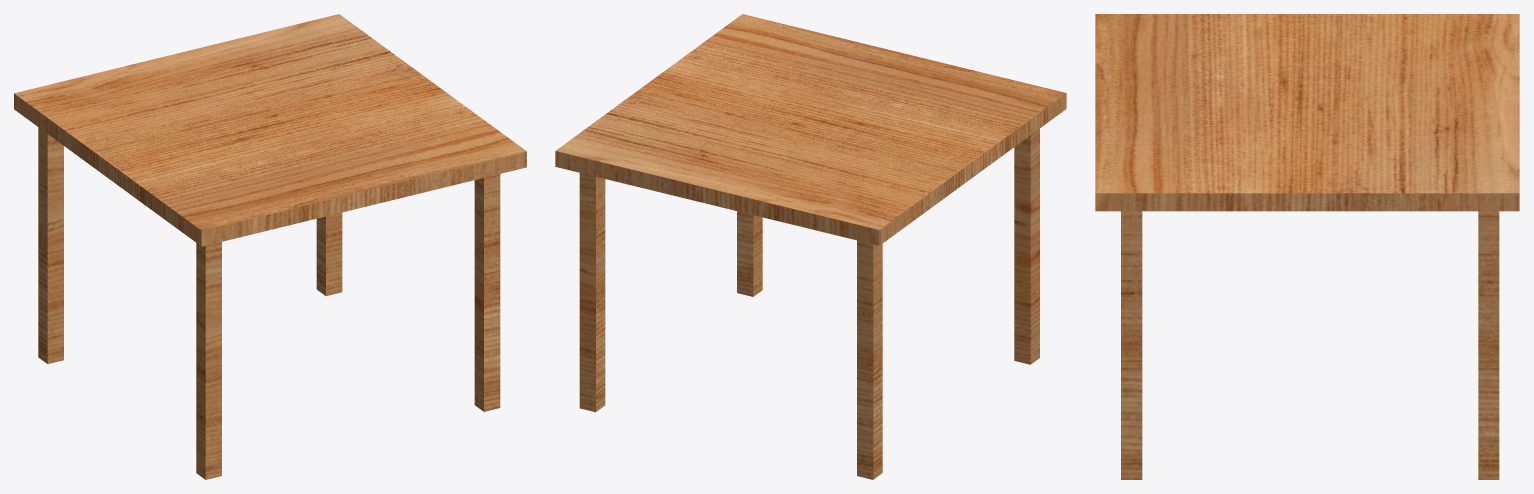
File: StoModel.fbx
3 views of the same model, side by side, from view 1: azimuth 30°, elevation 25°; view 2: azimuth 150°, elevation 25°; view 3: azimuth 270°, elevation 25° (orthographic). The views are drawn at different scales.
Visible parts, largest first — view 1: Sto; view 2: Sto; view 3: Sto.
Boxes of the visible parts, x1=… form: Sto: x1=14, y1=14, x2=526, y2=479; Sto: x1=555, y1=14, x2=1066, y2=479; Sto: x1=1095, y1=14, x2=1519, y2=479.
Bounding box in the file's own units: 817 × 627 × 817.
